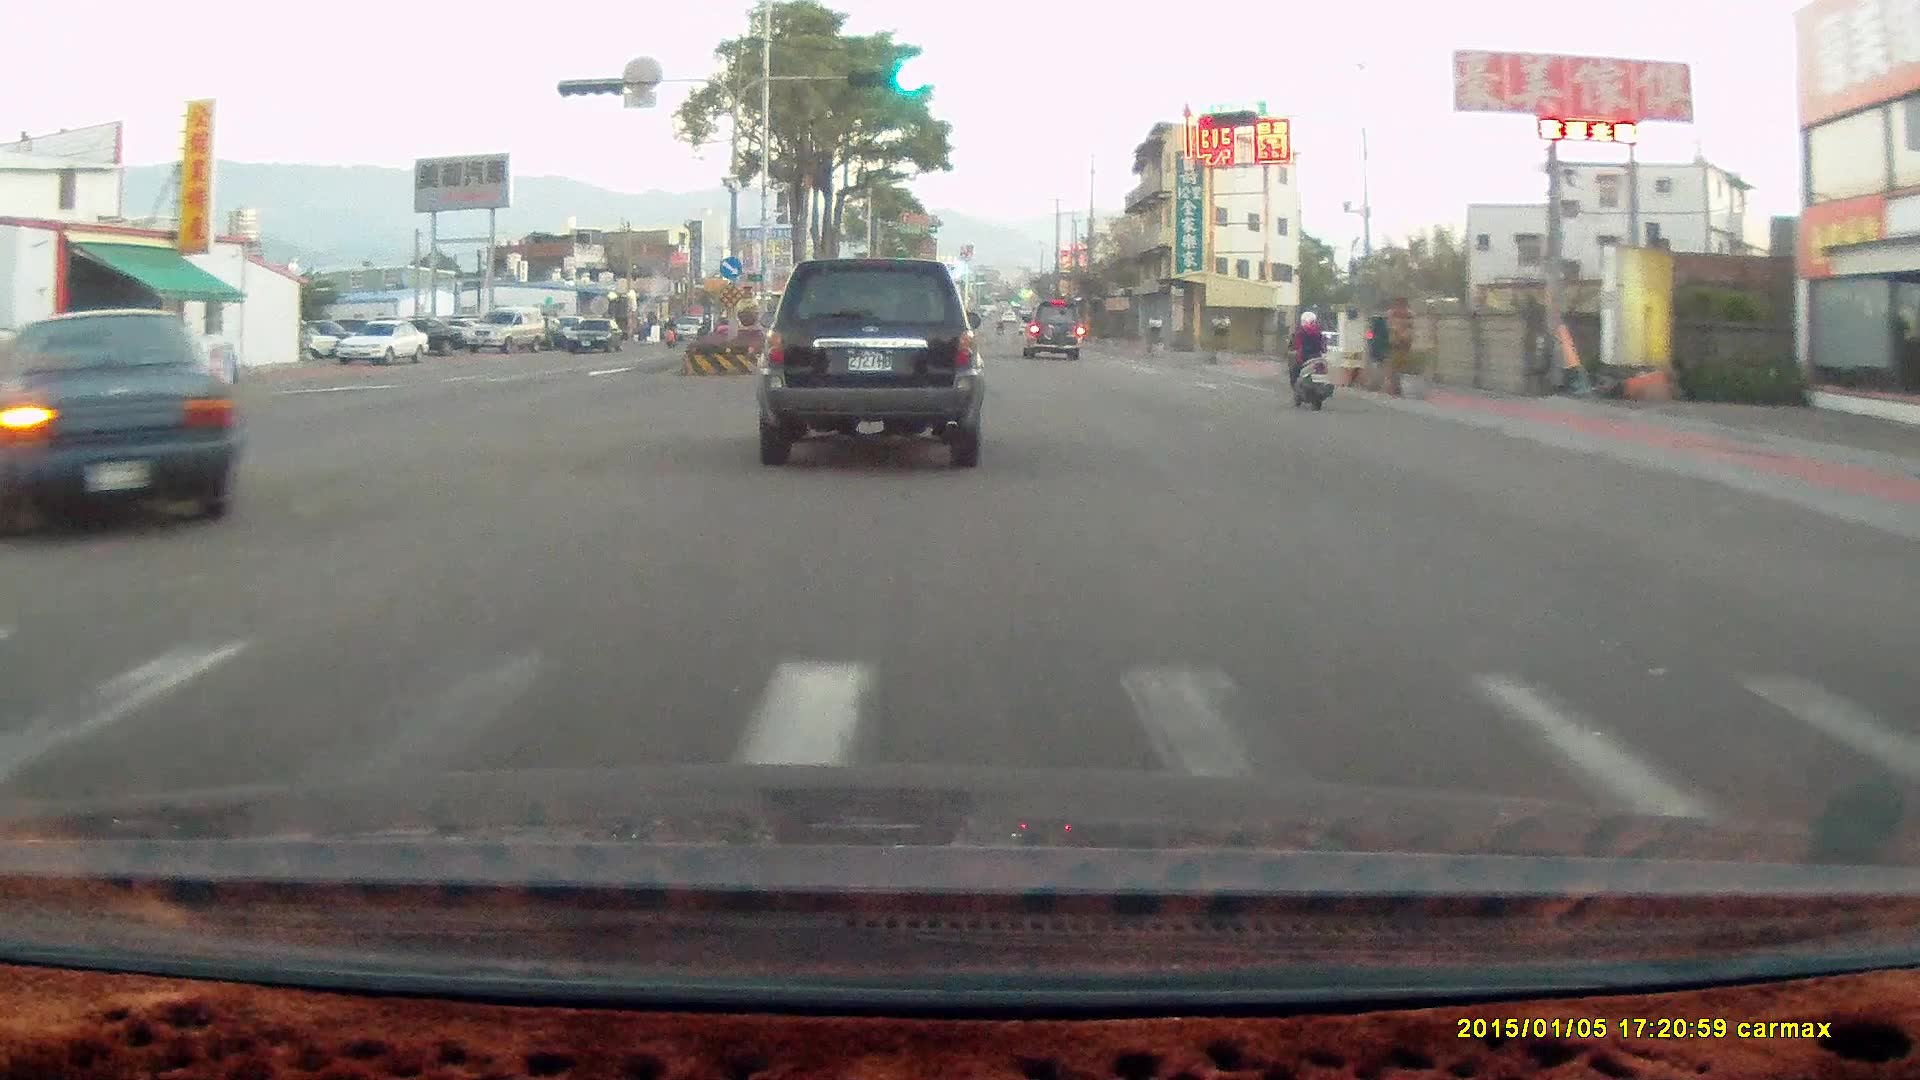rider: (1272, 301, 1345, 418), (1281, 306, 1333, 412)
vehicle: (0, 306, 245, 534), (4, 307, 238, 534), (762, 252, 994, 466), (758, 254, 984, 466), (338, 319, 429, 366), (334, 318, 426, 364), (463, 304, 547, 354), (463, 304, 545, 353), (1025, 299, 1085, 361), (1019, 298, 1082, 357), (380, 316, 461, 355), (565, 318, 624, 352)
